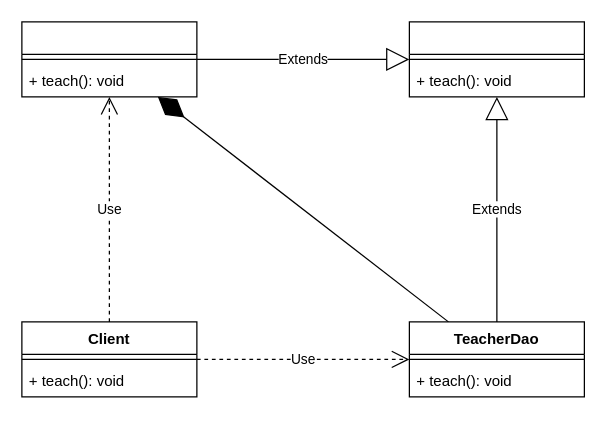
This 606x423 diagram has some shape labels left out. The box of each missing label's shape, as (x1, y1, x2, y2) in pixels:
ITeacherDao: (408, 21, 584, 97)
TeacherDaoProxy: (21, 21, 197, 97)
